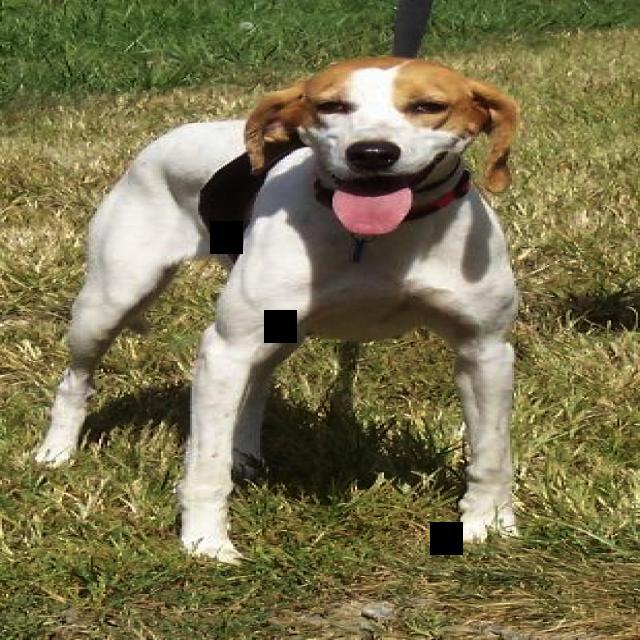adult_dog: (30, 6, 525, 567)
